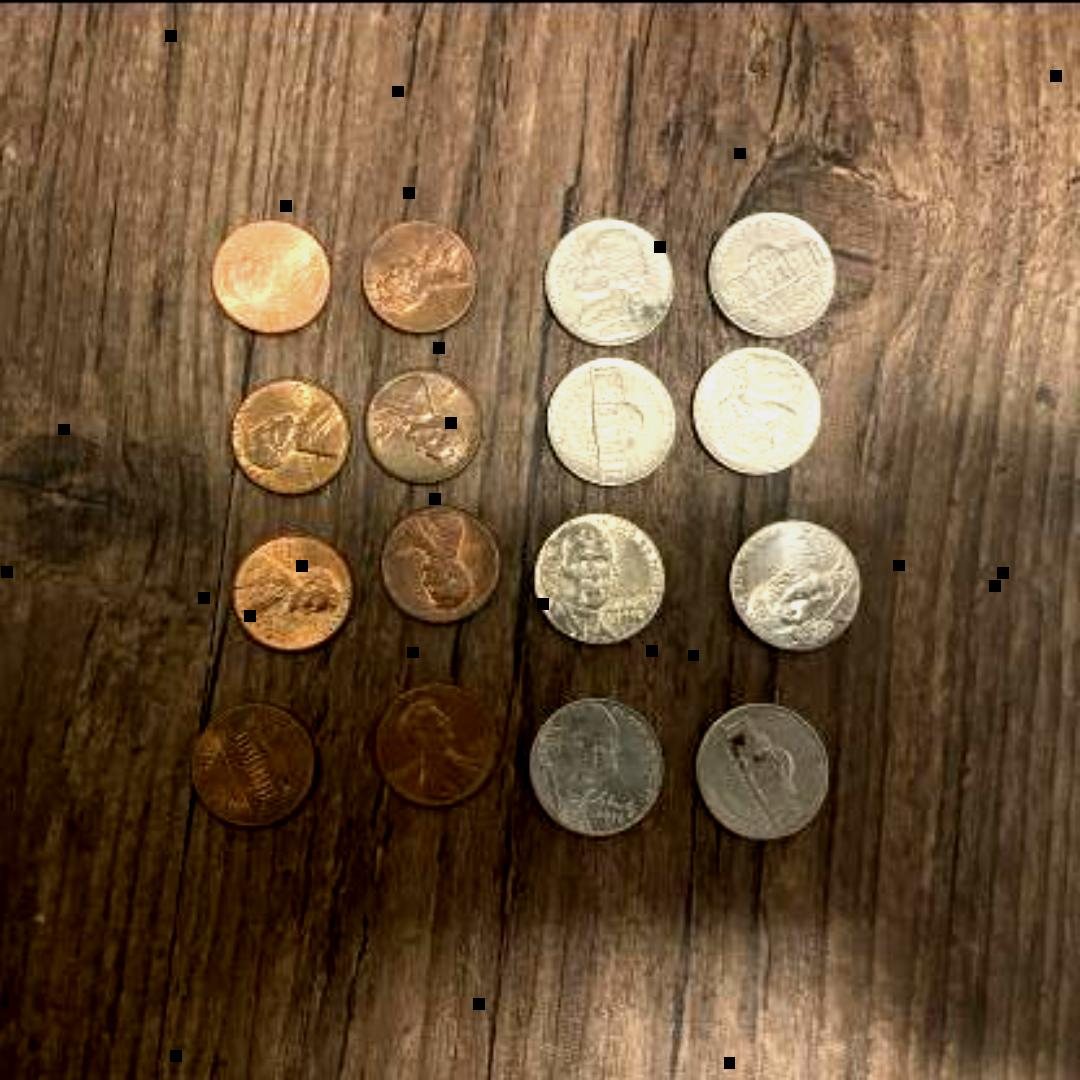Nickel: (530, 690, 662, 836), (699, 698, 831, 838), (532, 509, 668, 641), (542, 210, 678, 342), (730, 517, 862, 649), (545, 353, 680, 482), (706, 208, 838, 338), (688, 348, 820, 472)
Penny: (190, 698, 322, 828), (372, 678, 498, 805), (380, 499, 506, 623), (234, 527, 358, 651), (356, 215, 482, 337), (361, 362, 483, 480), (210, 214, 332, 332), (232, 374, 350, 496)
